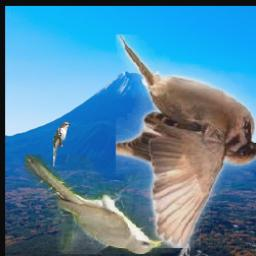Cuckoo: (25, 156, 166, 255), (52, 122, 72, 168)
Sparrow: (116, 35, 256, 249)
